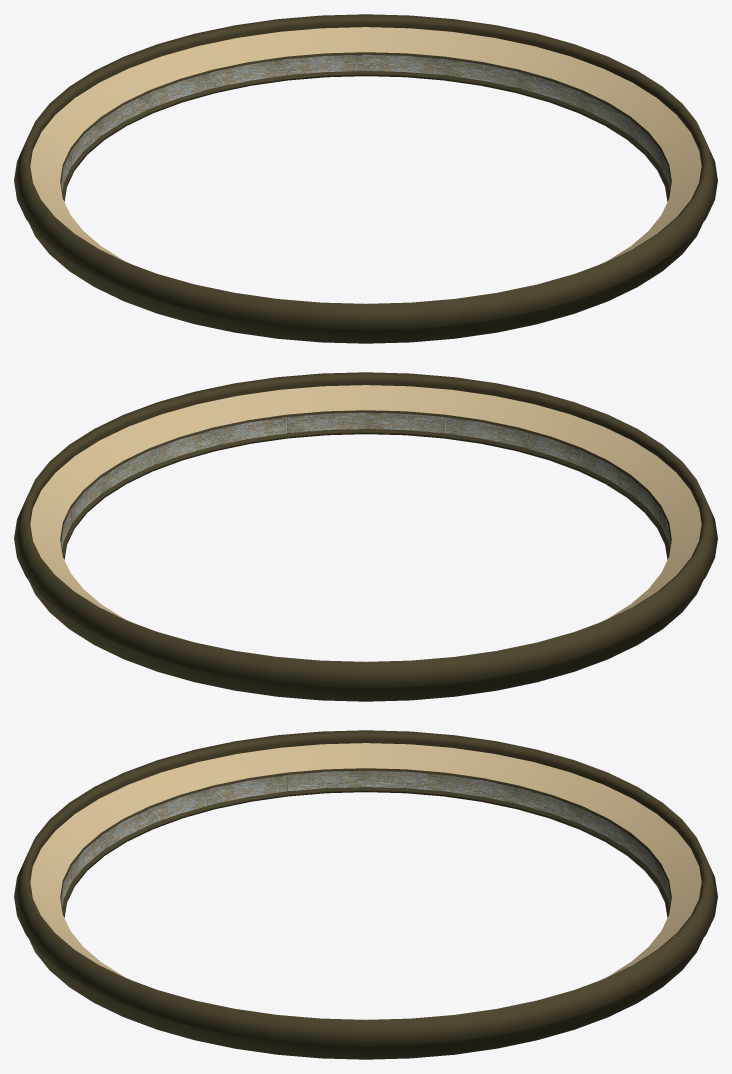
Rendered from arena.fbx.
3 views of the same model, one above another, from view 1: azimuth 30°, elevation 25°; view 2: azimuth 150°, elevation 25°; view 3: azimuth 270°, elevation 25° (orthographic).
Parts seen in each view (by area): view 1: Torus; view 2: Torus; view 3: Torus.
Boxes of the visible parts, bbox=[...] form: Torus: bbox=[14, 14, 717, 343]; Torus: bbox=[14, 372, 717, 701]; Torus: bbox=[14, 730, 717, 1059].
Size of the model in its own units: 13.26 by 0.926 by 13.26.
